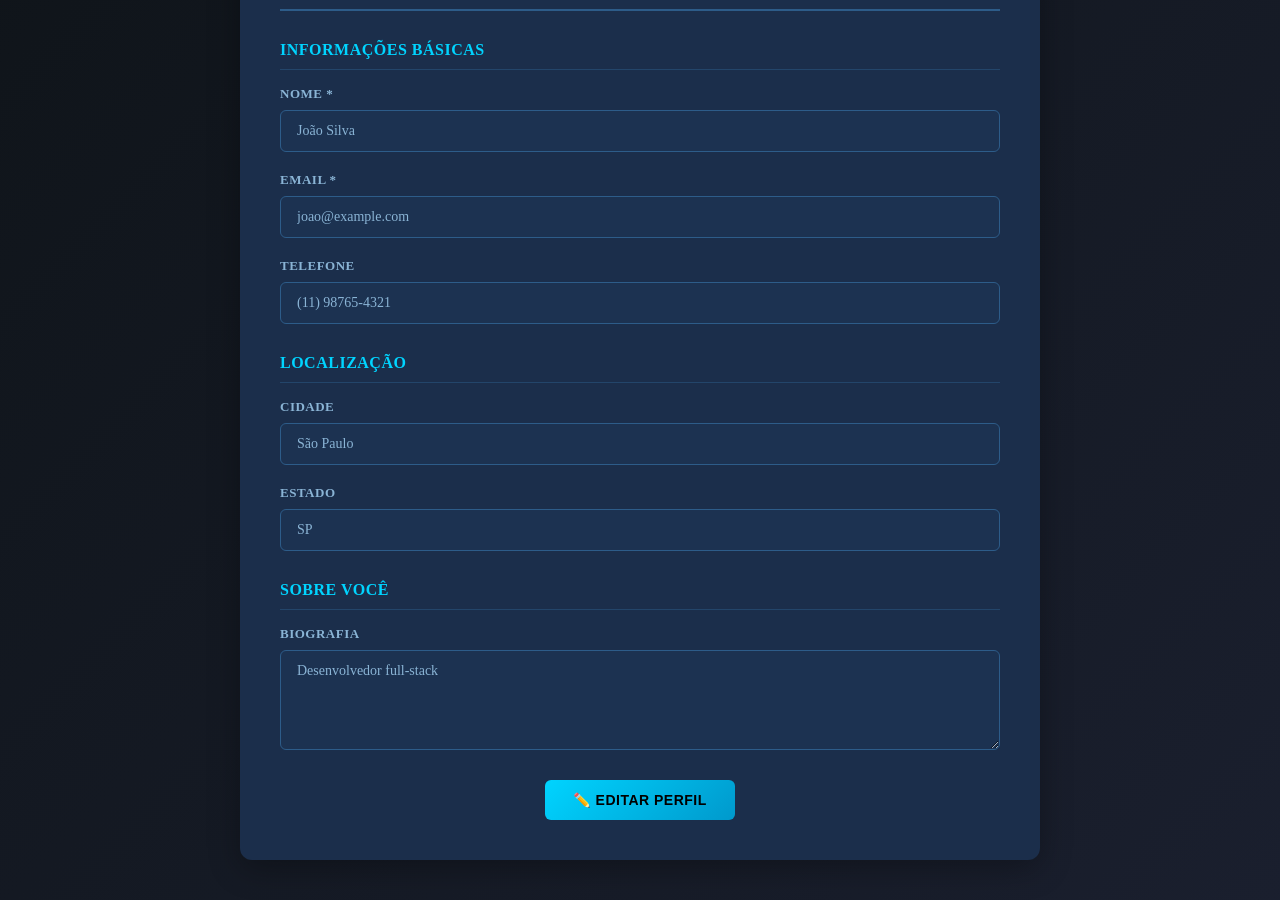
it: Componente Perfil › valida formato de email
This screenshot has width=1280, height=900.
(page scrolled)
Expected: the field showing "joao@example.com" is shown, left=280, top=196, right=1000, bottom=238
Step 1. Click the button "✏️ Editar Perfil" → {"x": 640, "y": 800}, box left=545, top=780, right=735, bottom=820
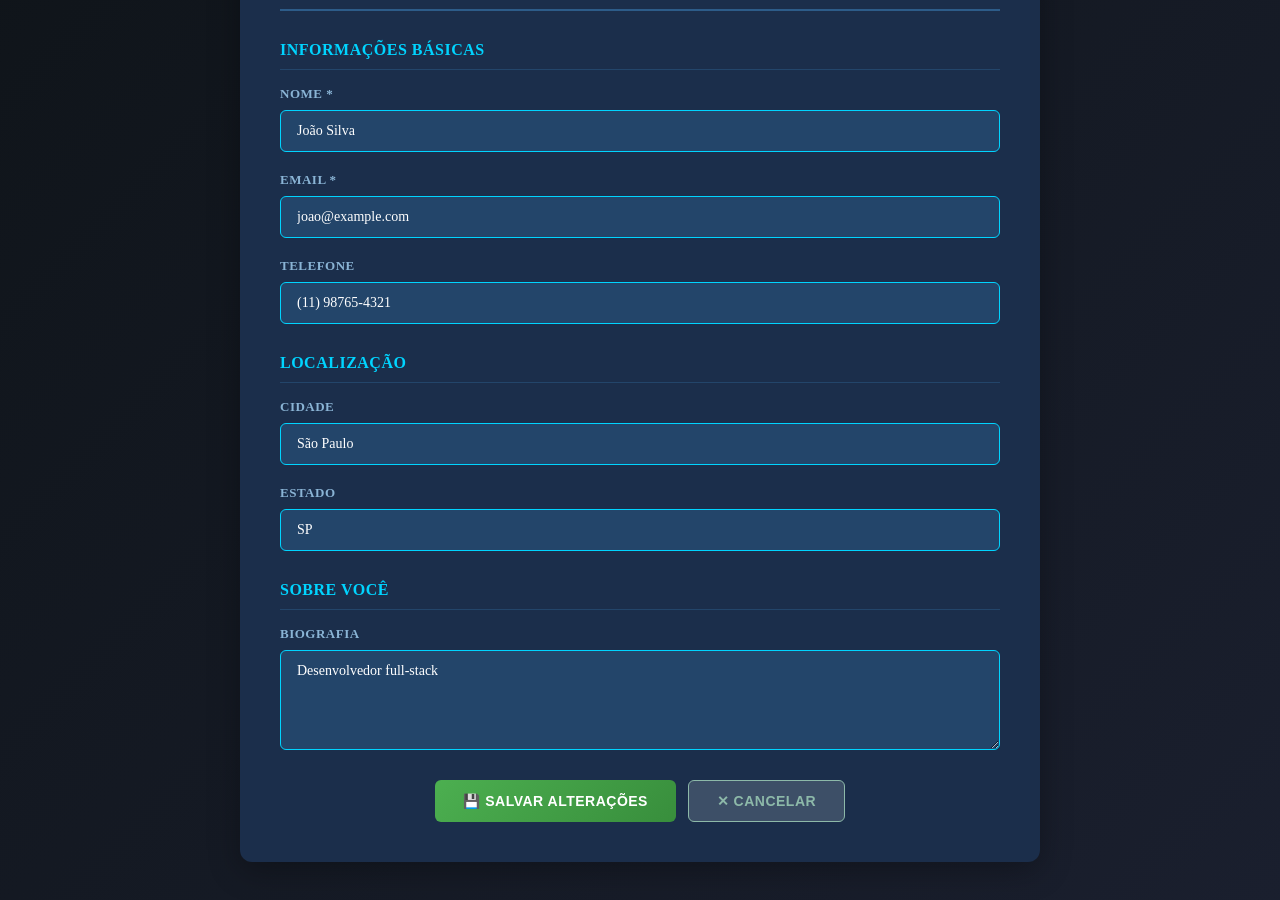
Step 2. Replace the text in the field showing "joao@example.com" with "email-invalido" → {"x": 640, "y": 217}, box left=280, top=196, right=1000, bottom=238
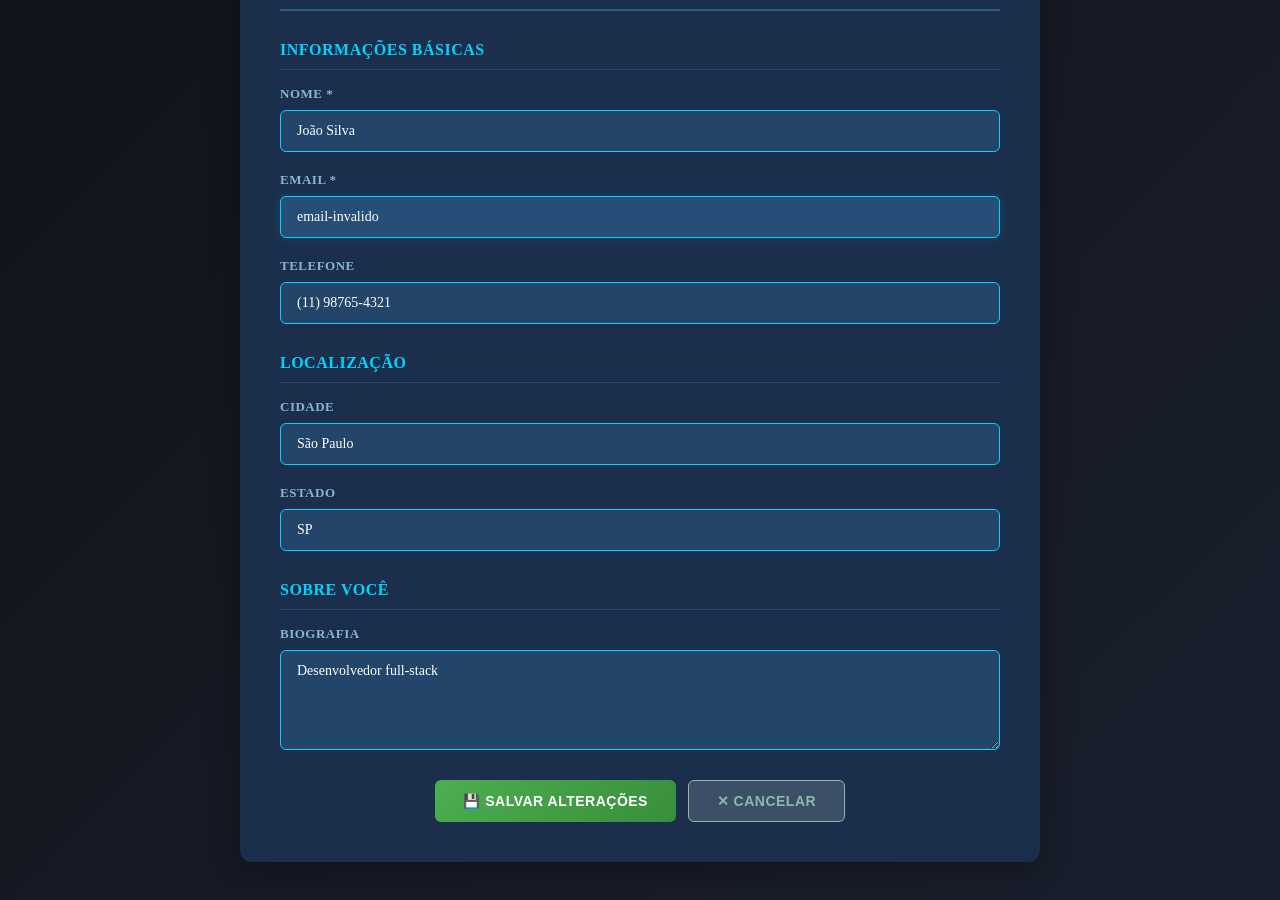
Step 3. Click the button "💾 Salvar Alterações" → {"x": 555, "y": 801}, box left=435, top=780, right=676, bottom=822
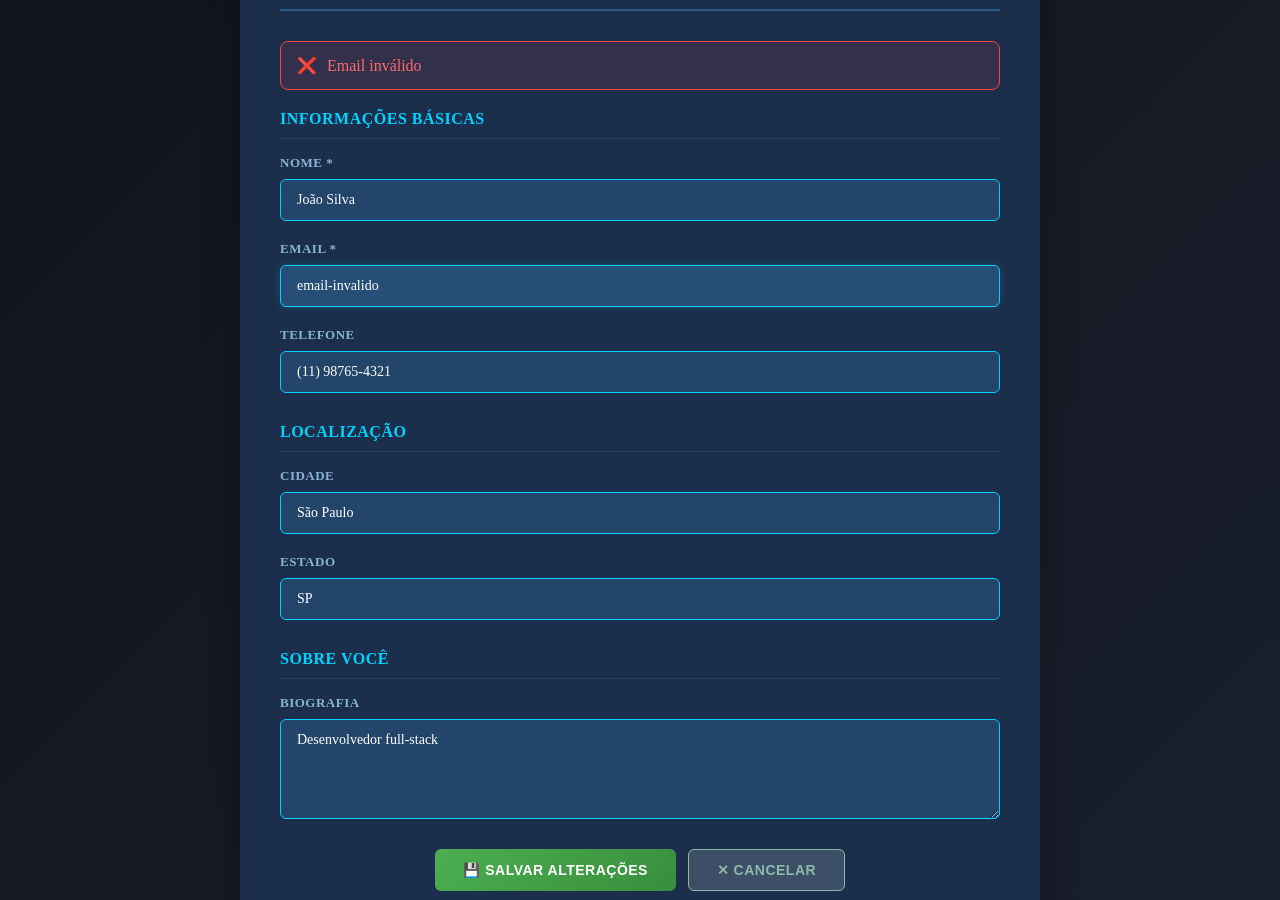
Now the text "Email inválido" is shown, box left=327, top=56, right=422, bottom=74
